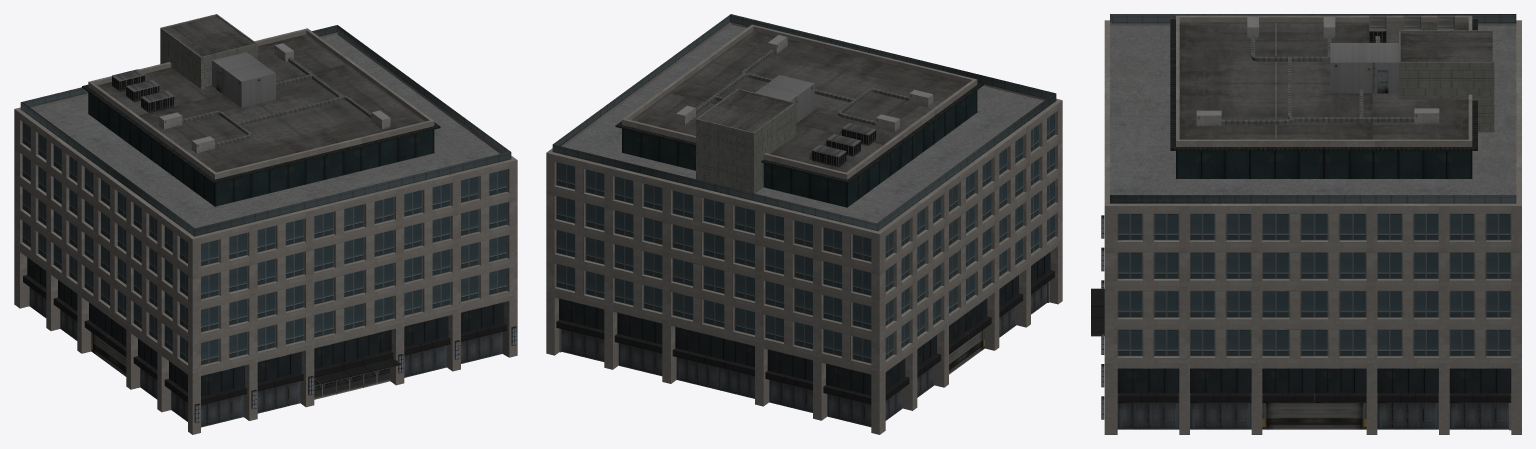
File: AIT01W2W3.FBX
The picture shows the model from 3 angles, left to right: view 1: azimuth 30°, elevation 25°; view 2: azimuth 150°, elevation 25°; view 3: azimuth 270°, elevation 25°; orthographic projection. The views are drawn at different scales.
Visible parts, largest first — view 1: AIT01W2W3; view 2: AIT01W2W3; view 3: AIT01W2W3.
Part boxes in pixels (x1,y1,x2,y2): AIT01W2W3: (14,14,517,434); AIT01W2W3: (546,14,1062,434); AIT01W2W3: (1091,14,1521,434).
Bounding box in the file's own units: 3200 × 2376 × 3137.
